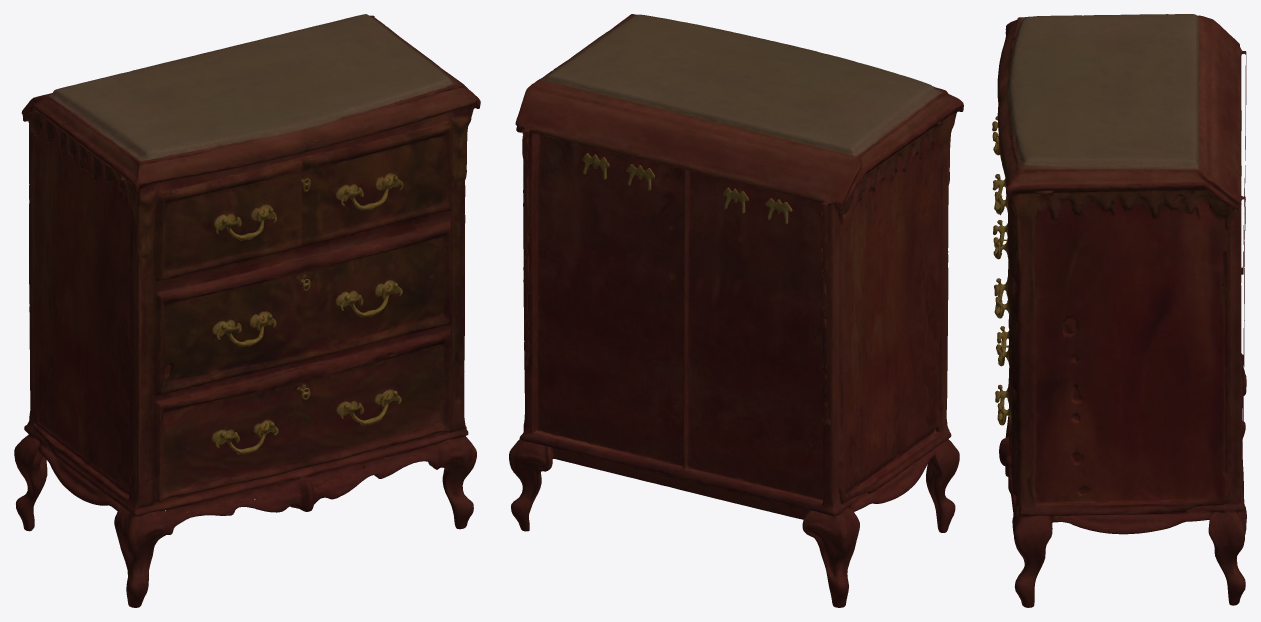
Rendered from komod-quest.glb.
3 views of the same model, side by side, from view 1: azimuth 30°, elevation 25°; view 2: azimuth 150°, elevation 25°; view 3: azimuth 270°, elevation 25° (orthographic). The views are drawn at different scales.
Parts seen in each view (by area): view 1: grandfather_clock; view 2: grandfather_clock; view 3: grandfather_clock.
Boxes of the visible parts, <box> form: grandfather_clock: <box>14,14,480,607</box>; grandfather_clock: <box>509,14,963,607</box>; grandfather_clock: <box>992,14,1246,607</box>.
Size of the model in its own units: 0.6829 by 0.85 by 0.4441.
Materials: 1 (1 with a texture image).
